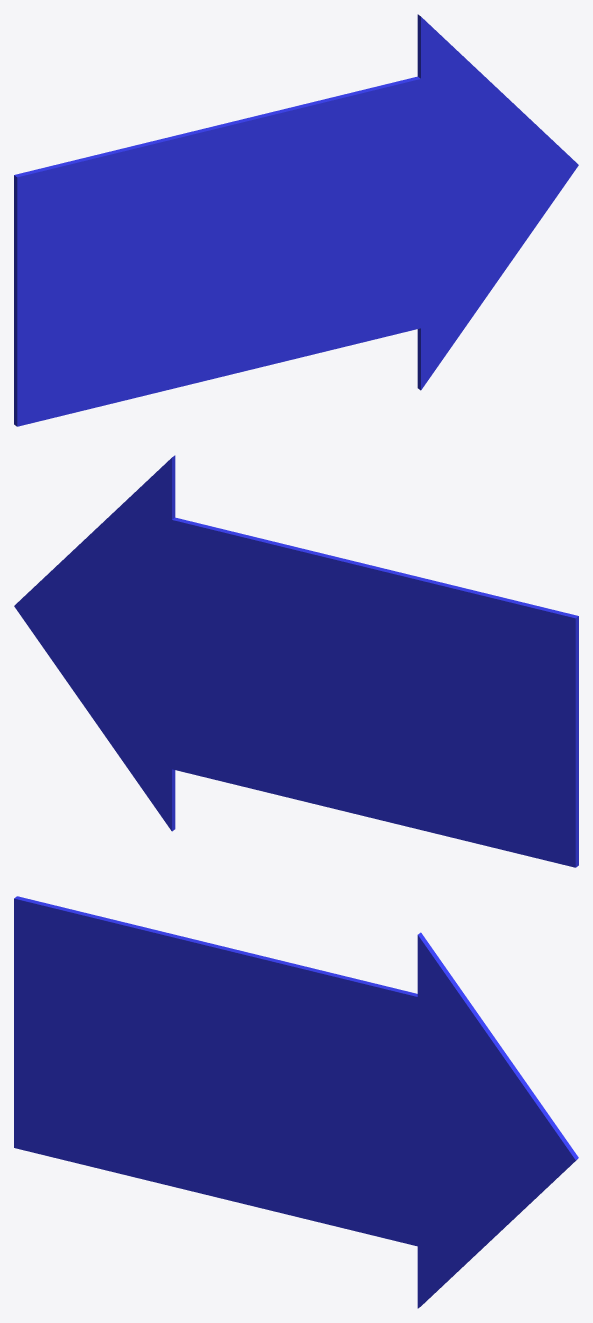
The model's file is arrow_0.fbx.
The picture shows the model from 3 angles, top to bottom: view 1: azimuth 30°, elevation 25°; view 2: azimuth 150°, elevation 25°; view 3: azimuth 330°, elevation 25°; orthographic projection.
Visible parts, largest first — view 1: Arrow; view 2: Arrow; view 3: Arrow.
Boxes of the visible parts, x1,y1,x2,y2 form: Arrow: (14, 14, 578, 426); Arrow: (14, 455, 578, 867); Arrow: (14, 896, 578, 1308).
Bounding box in the file's own units: 100 × 63.64 × 1.
